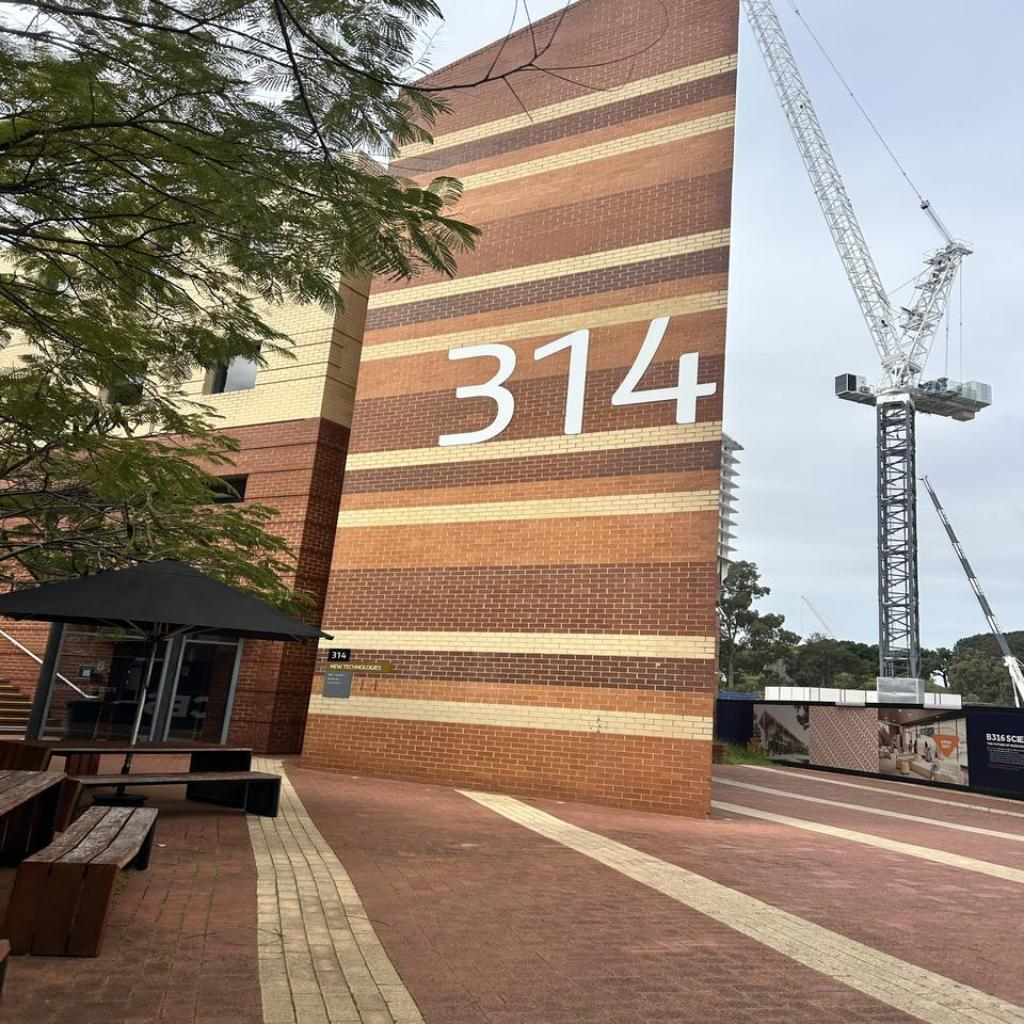BuildingCodes: (436, 314, 720, 448)
